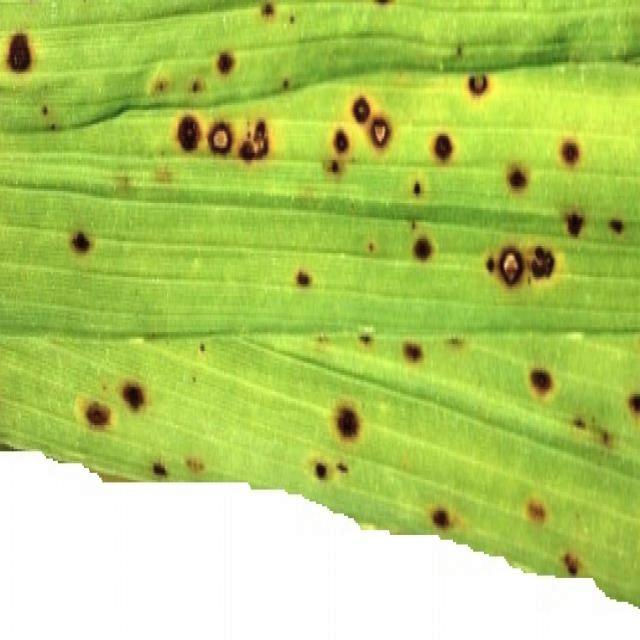Brownspot: (239, 120, 269, 162), (7, 33, 31, 72), (499, 247, 523, 285), (335, 405, 360, 441), (177, 115, 201, 151), (207, 122, 232, 154), (530, 246, 554, 278), (85, 401, 110, 429), (121, 382, 145, 410), (433, 133, 454, 163), (529, 368, 552, 395), (370, 116, 390, 147), (560, 139, 579, 165), (352, 96, 370, 123), (507, 166, 527, 190), (565, 211, 583, 236), (468, 74, 488, 95), (71, 231, 91, 252), (431, 507, 451, 528), (413, 237, 431, 260), (527, 500, 545, 523), (563, 552, 580, 575), (217, 51, 234, 74), (403, 342, 422, 361), (333, 129, 348, 153), (239, 140, 255, 161), (185, 456, 204, 473), (155, 166, 172, 183), (296, 270, 311, 287), (628, 393, 639, 416), (599, 429, 612, 447), (152, 461, 167, 476), (446, 336, 464, 348), (153, 78, 168, 92), (315, 462, 327, 479), (609, 219, 623, 233), (190, 78, 203, 92), (262, 2, 274, 17), (572, 416, 585, 429), (328, 159, 340, 173), (359, 333, 372, 345), (486, 257, 495, 273), (336, 462, 348, 473), (413, 181, 421, 196), (367, 240, 375, 253), (282, 78, 290, 90), (41, 105, 48, 116), (199, 343, 205, 352), (289, 14, 295, 23)
